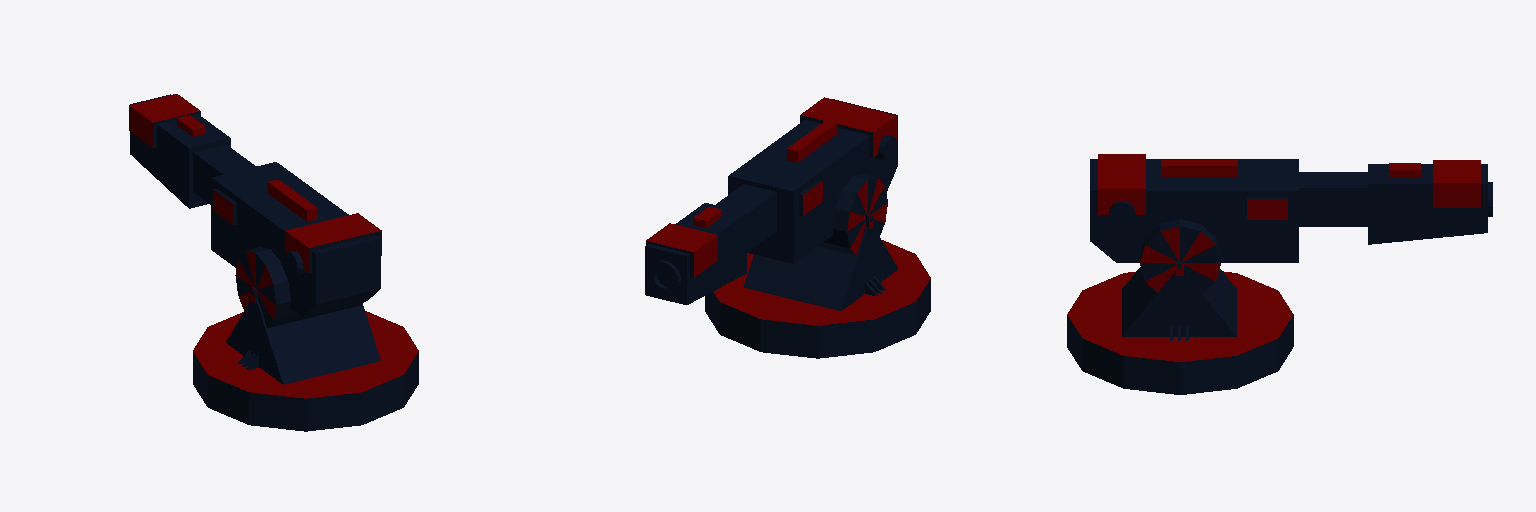
The model's file is Turrets3.obj.
3 renders of one model, left to right at view 1: azimuth 30°, elevation 25°; view 2: azimuth 150°, elevation 25°; view 3: azimuth 270°, elevation 25°, orthographic.
Parts seen in each view (by area): view 1: Turret_3; view 2: Turret_3; view 3: Turret_3.
Boxes of the visible parts, box(x1,y1,x2,y2) form: Turret_3: box(129, 94, 418, 431); Turret_3: box(645, 97, 930, 358); Turret_3: box(1067, 154, 1492, 394).
Size of the model in its own units: 2.67 by 2.38 by 5.03.